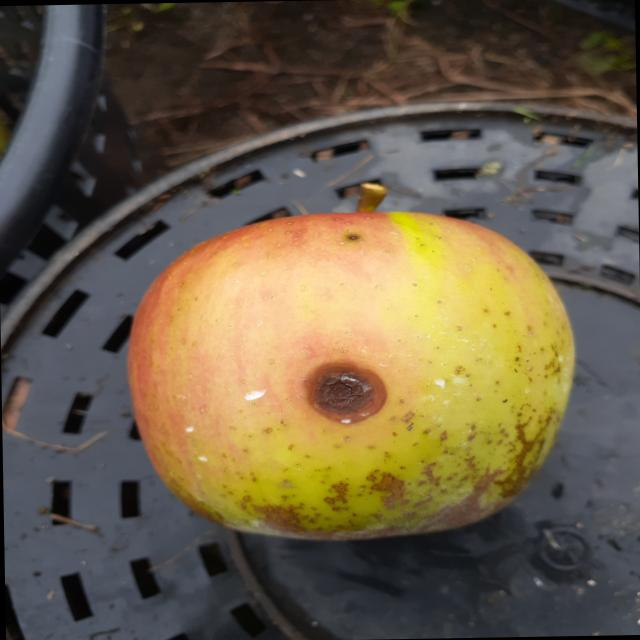rotten: (123, 200, 585, 560)
